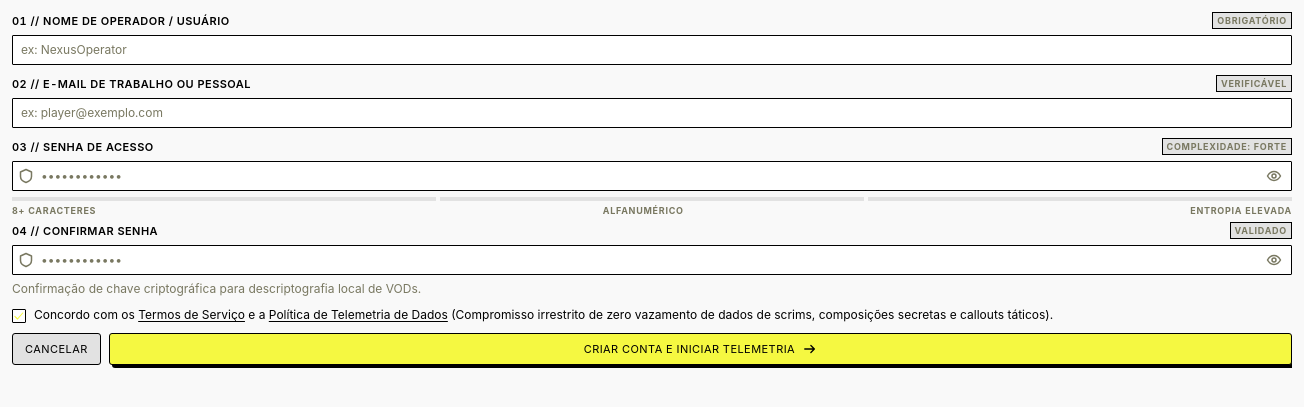
SignupForm › exige o aceite dos termos
This screenshot has width=1304, height=407.
Type "  Coach  " into the field labelled "01 // NOME DE OPERADOR / USUÁRIO" at (652, 50), box left=12, top=35, right=1292, bottom=65
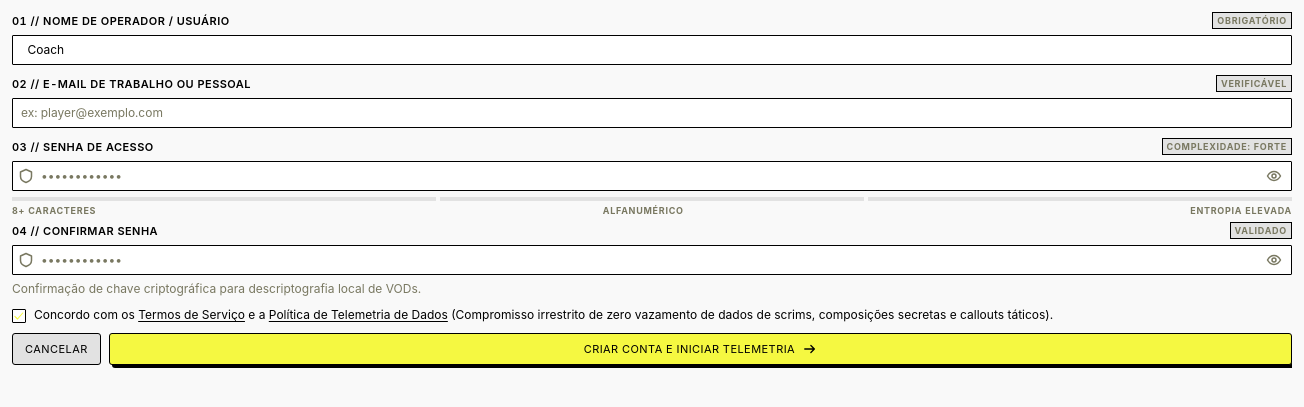
Type "coach@valcoach.dev" into the field labelled "02 // E-MAIL DE TRABALHO OU PESSOAL" at (652, 113), box left=12, top=98, right=1292, bottom=128
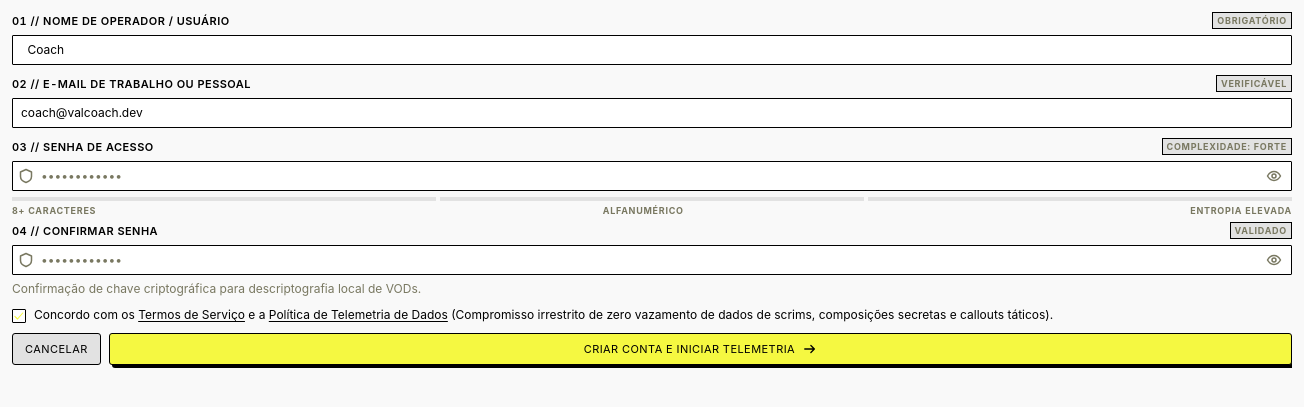
Type "segred0!valcoach" into the password field labelled "03 // SENHA DE ACESSO" at (652, 176), box left=12, top=161, right=1292, bottom=191
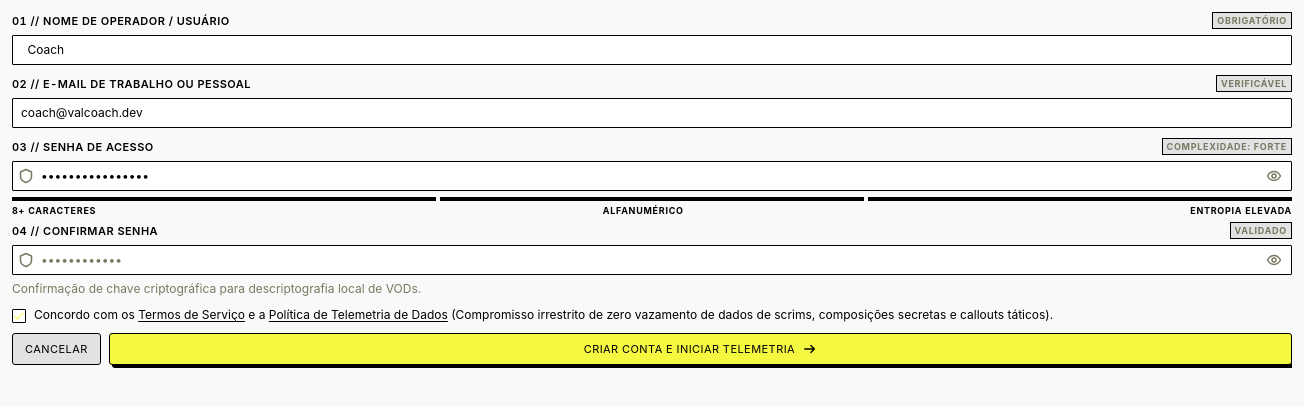
Type "segred0!valcoach" into the password field labelled "04 // CONFIRMAR SENHA" at (652, 260), box left=12, top=245, right=1292, bottom=275
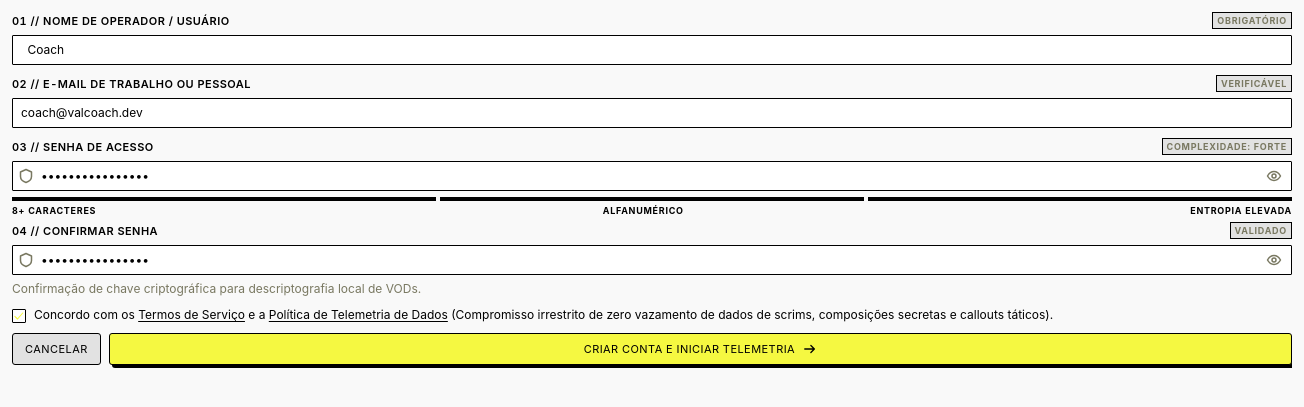
Submit the form
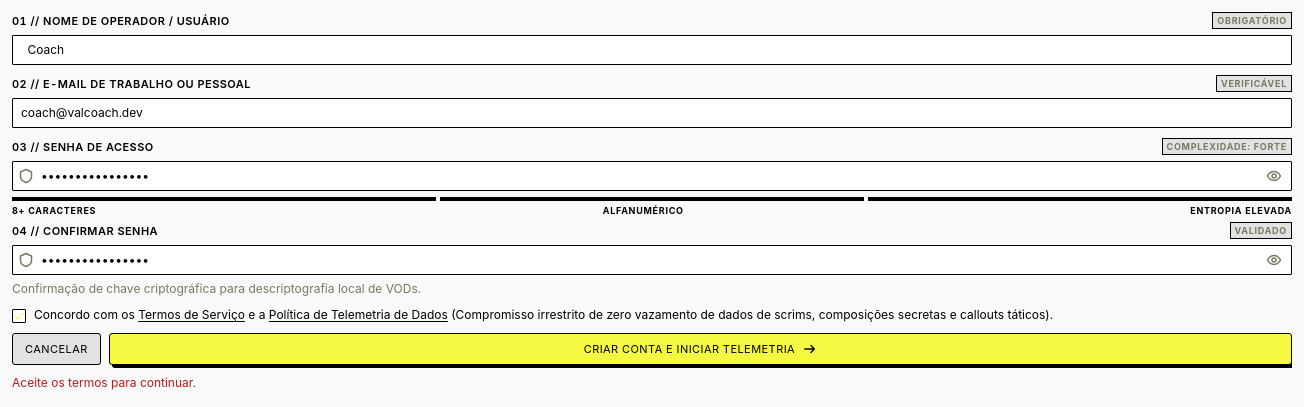
Now the message shows "termos", box left=12, top=375, right=196, bottom=390
